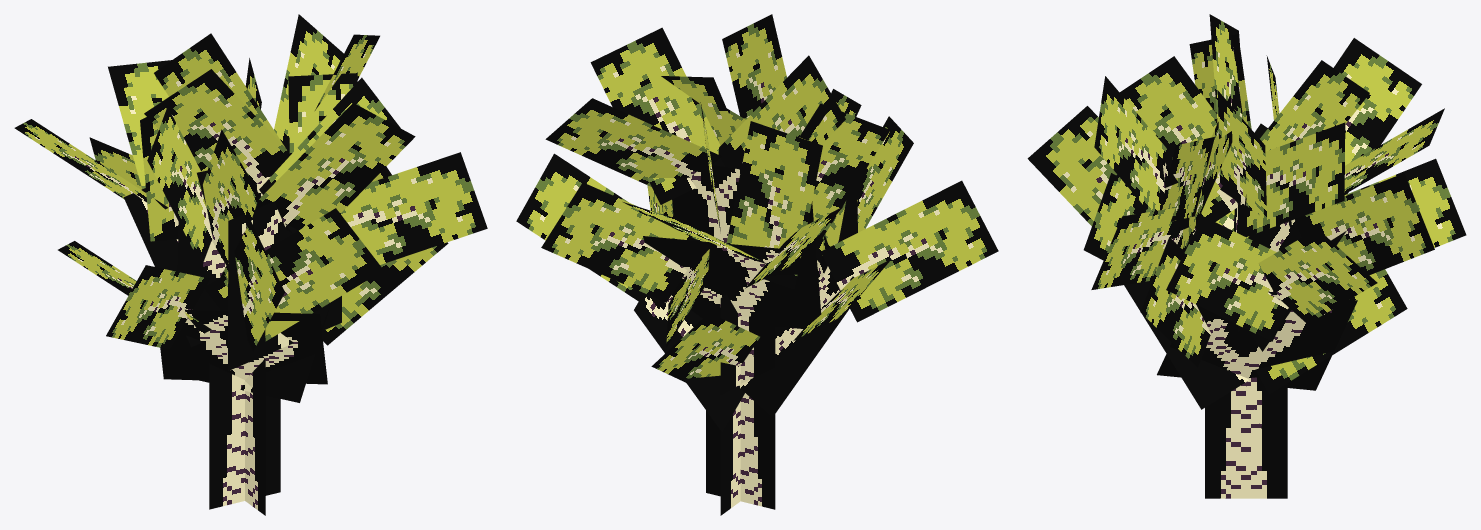
Rendered from tree.glb.
3 renders of one model, left to right at view 1: azimuth 30°, elevation 25°; view 2: azimuth 150°, elevation 25°; view 3: azimuth 270°, elevation 25°, orthographic. The views are drawn at different scales.
Parts seen in each view (by area): view 1: tree; view 2: tree; view 3: tree.
Boxes of the visible parts, x1=… form: tree: x1=14, y1=14, x2=487, y2=515; tree: x1=516, y1=14, x2=998, y2=515; tree: x1=1027, y1=14, x2=1466, y2=498.
Size of the model in its own units: 5.16 by 6.14 by 5.32.
Materials: 1 (1 with a texture image).
